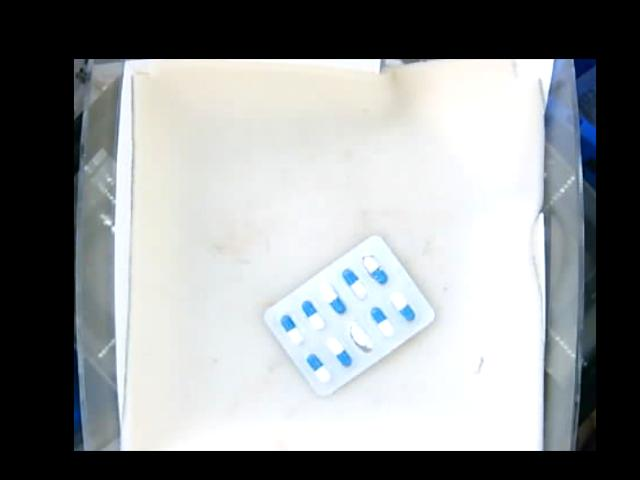Medicine: (262, 234, 434, 394)
